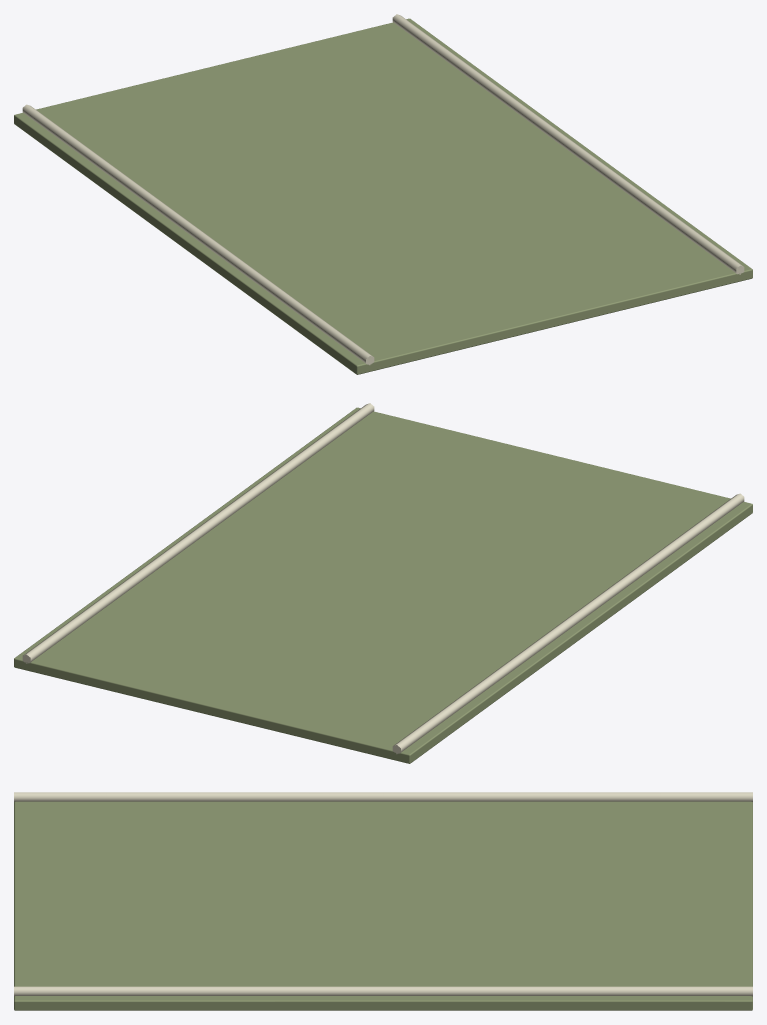
Rendered from survival-greenhouse-and-irrigation-capillary-mat-e50d0dd4__21327.glb.
The picture shows the model from 3 angles, top to bottom: view 1: azimuth 30°, elevation 25°; view 2: azimuth 150°, elevation 25°; view 3: azimuth 270°, elevation 25°; orthographic projection. The views are drawn at different scales.
Visible parts, largest first — view 1: capillary-mat; view 2: capillary-mat; view 3: capillary-mat.
Part boxes in pixels (x1=…): capillary-mat: x1=14, y1=14, x2=752, y2=374; capillary-mat: x1=14, y1=403, x2=752, y2=763; capillary-mat: x1=14, y1=792, x2=752, y2=1010.
Bounding box in the file's own units: 0.6 × 0.024 × 0.9.
